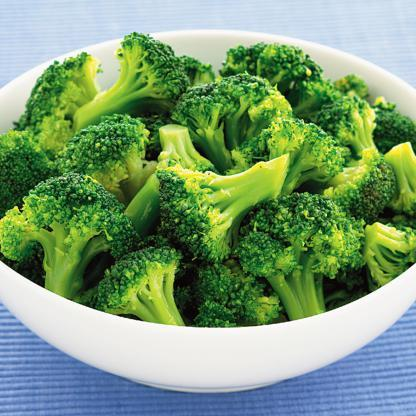broccoli: (0, 31, 416, 330)
